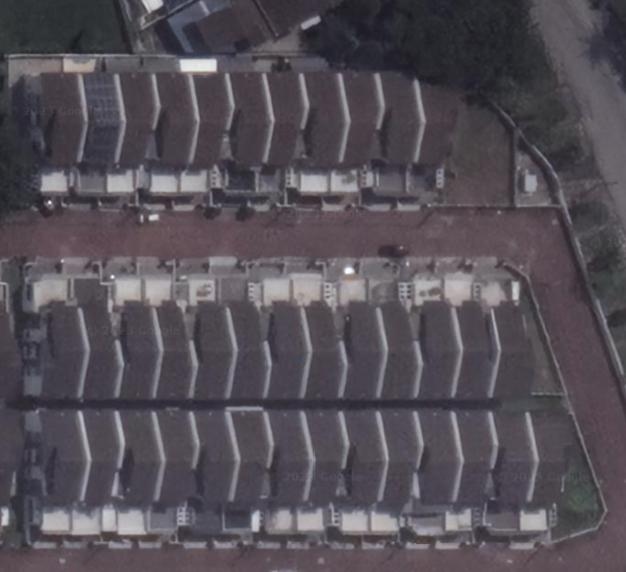building: (482, 295, 538, 406), (405, 407, 458, 514), (180, 405, 233, 512), (140, 67, 191, 178), (29, 298, 81, 402), (520, 408, 572, 511), (481, 408, 530, 516), (257, 404, 306, 512), (72, 66, 118, 177), (331, 64, 378, 172), (295, 68, 342, 175), (33, 406, 81, 510), (108, 408, 158, 507), (369, 67, 418, 167), (445, 301, 492, 405), (183, 66, 228, 174), (183, 302, 232, 401), (333, 405, 380, 508), (71, 406, 118, 509), (108, 66, 152, 176), (220, 68, 264, 175), (333, 301, 380, 401), (258, 65, 301, 174), (370, 404, 412, 515), (408, 299, 453, 402), (111, 299, 157, 399), (72, 300, 118, 399), (297, 408, 342, 509), (219, 299, 263, 402), (145, 298, 190, 398), (296, 301, 340, 402), (447, 406, 489, 511), (146, 407, 188, 512), (37, 69, 79, 172), (258, 299, 299, 402), (372, 302, 415, 400), (224, 403, 264, 507), (410, 77, 451, 171)
